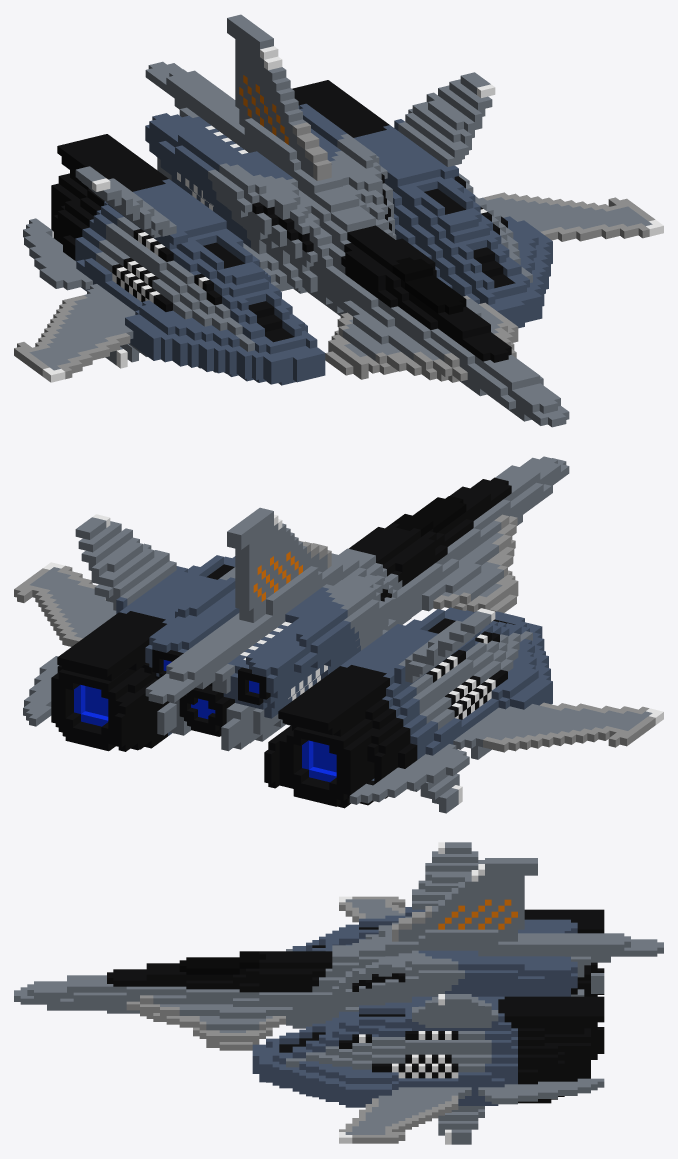
File: Spaceship6.obj
3 views of the same model, one above another, from view 1: azimuth 30°, elevation 25°; view 2: azimuth 150°, elevation 25°; view 3: azimuth 270°, elevation 25° (orthographic). The views are drawn at different scales.
Parts seen in each view (by area): view 1: Spaceship6_Spaceships.008; view 2: Spaceship6_Spaceships.008; view 3: Spaceship6_Spaceships.008.
Boxes of the visible parts, x1,y1,x2,y2 form: Spaceship6_Spaceships.008: [14, 14, 663, 427]; Spaceship6_Spaceships.008: [14, 456, 663, 813]; Spaceship6_Spaceships.008: [14, 842, 663, 1144].
Bounding box in the file's own units: 8.6 × 3.6 × 9.8.
